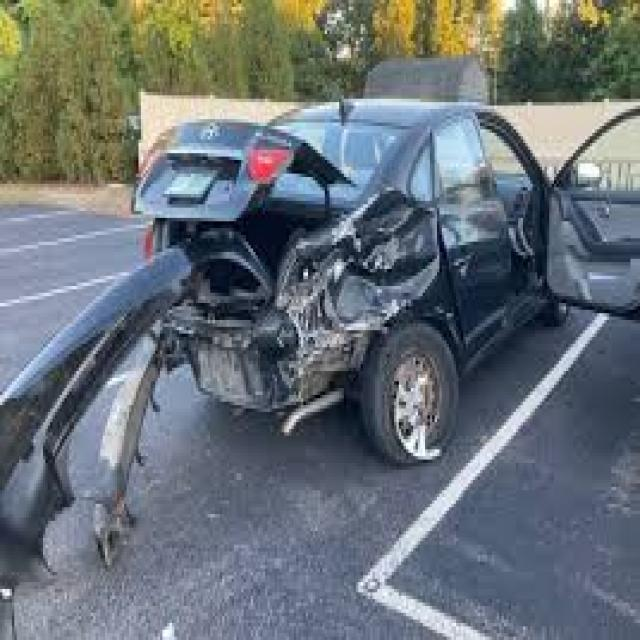Severe Damage: (120, 120, 448, 460)
